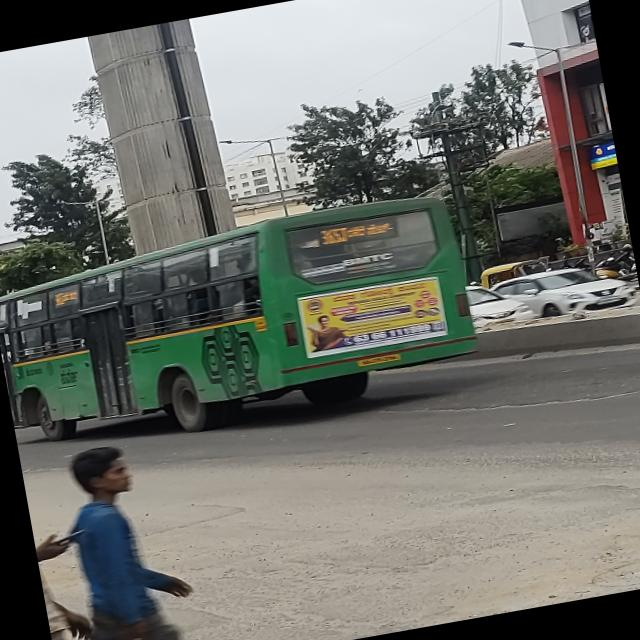bus: (0, 182, 493, 471)
display: (316, 212, 402, 252), (52, 286, 85, 308)
dnumber: (320, 224, 349, 246)
